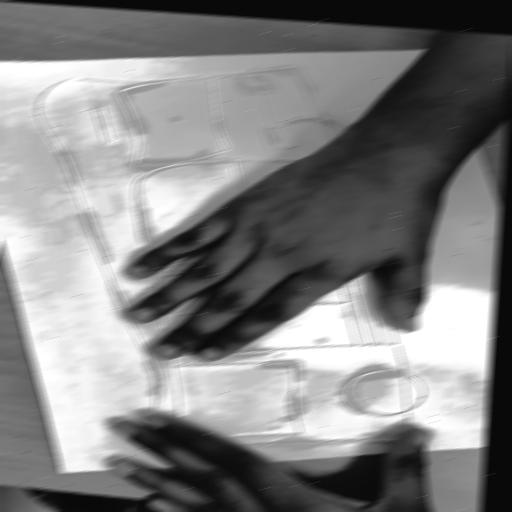bus: (19, 0, 445, 512)
top_left: (55, 467, 73, 476)
